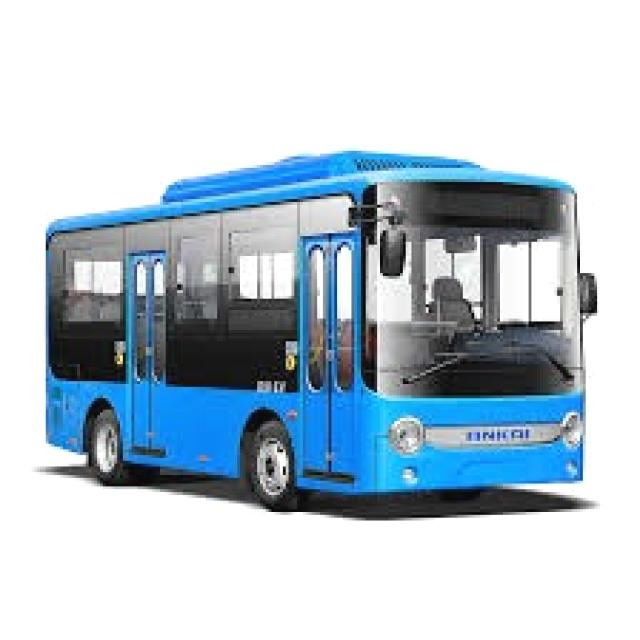bus: (39, 140, 608, 558)
